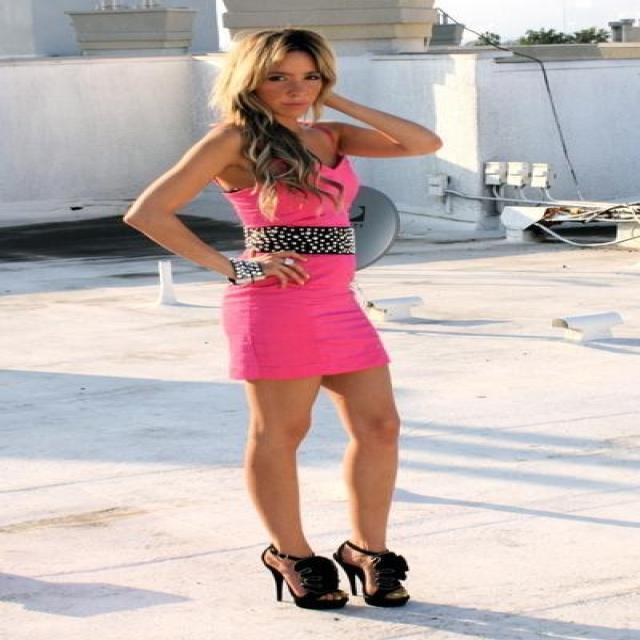dress: (222, 155, 389, 383)
shoe: (264, 552, 408, 610)
